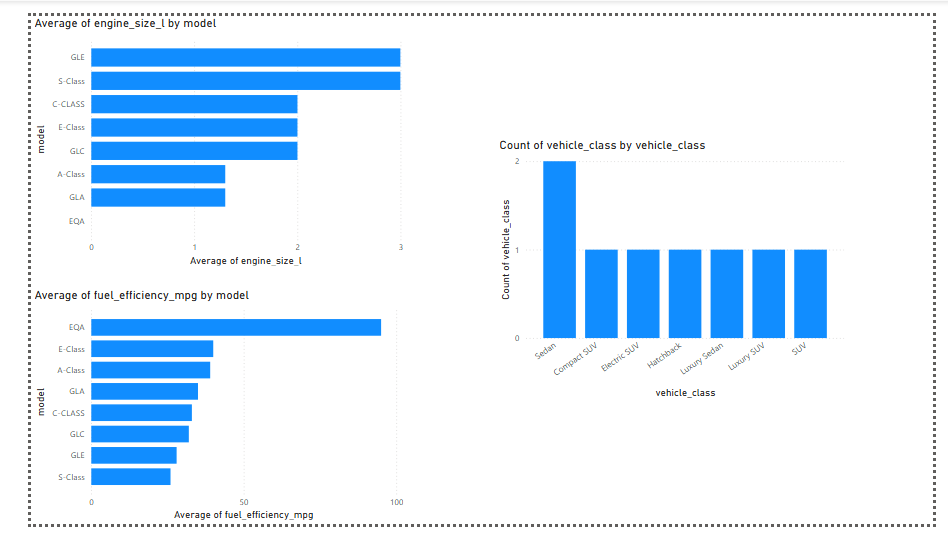

The dashboard page shown, as its layout file describes it:
{"tool":"powerbi","page":{"name":"Technical Comparison","canvas":[1280,720],"ordinal":1},"visuals":[{"type":"clusteredBarChart","fields":{"Category":["gold_dim_model.model"],"Y":["Avg(gold_dim_model.engine_size_l)"]},"box":[0,0,532.9,359.1],"z":0},{"type":"clusteredBarChart","fields":{"Category":["gold_dim_model.model"],"Y":["Avg(gold_dim_model.fuel_efficiency_mpg)"]},"box":[0,385.5,532.9,334.5],"z":1000},{"type":"clusteredColumnChart","fields":{"Category":["gold_dim_model.vehicle_class"],"Y":["CountNonNull(gold_dim_model.vehicle_class)"]},"box":[659.5,172,498.9,374.2],"z":2000}]}

Visuals, with their boxes in screenshot pixels (x1, y1, x2, y2), scaled from the page's 1280x720 canvas onto the 948x542 screenshot:
clusteredBarChart - gold_dim_model.model x Avg(gold_dim_model.engine_size_l): x1=0 y1=0 x2=395 y2=270
clusteredBarChart - gold_dim_model.model x Avg(gold_dim_model.fuel_efficiency_mpg): x1=0 y1=290 x2=395 y2=541
clusteredColumnChart - gold_dim_model.vehicle_class x CountNonNull(gold_dim_model.vehicle_class): x1=488 y1=129 x2=858 y2=411
